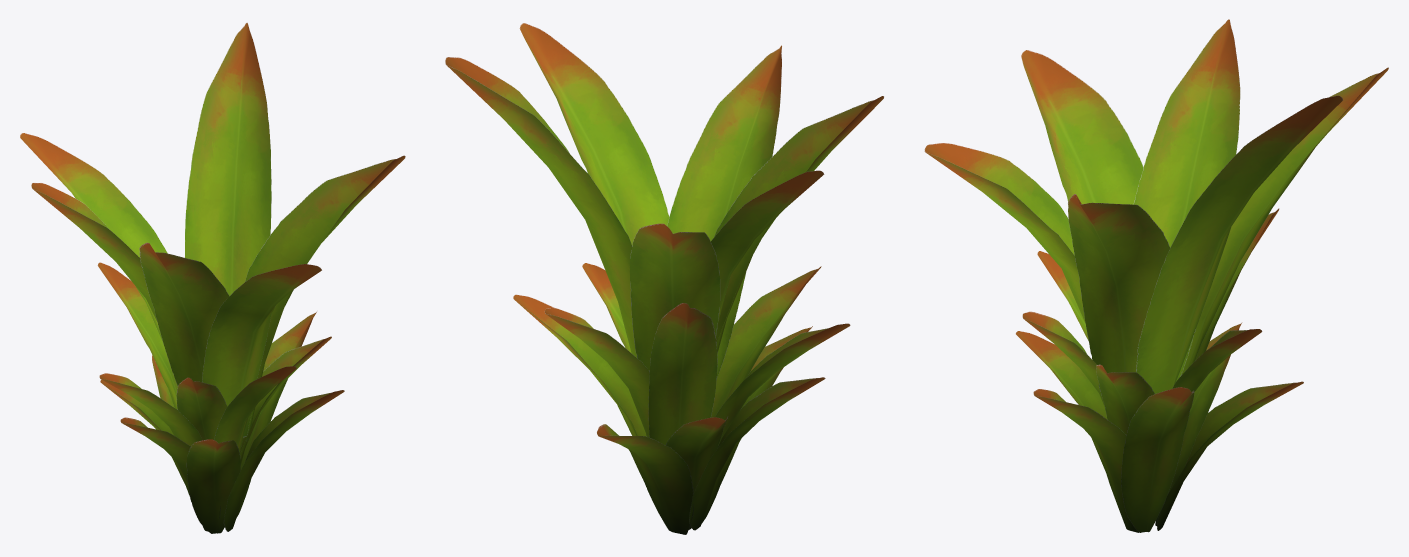
Rendered from Plant_1_Big.glb.
3 views of the same model, side by side, from view 1: azimuth 30°, elevation 25°; view 2: azimuth 150°, elevation 25°; view 3: azimuth 270°, elevation 25° (orthographic). The views are drawn at different scales.
Visible parts, largest first — view 1: Plant_1_Big; view 2: Plant_1_Big; view 3: Plant_1_Big.
Part boxes in pixels (box(x1,y1,x2,y2)): Plant_1_Big: box(20, 22, 405, 533); Plant_1_Big: box(445, 23, 883, 534); Plant_1_Big: box(924, 19, 1388, 532).
Size of the model in its own units: 1.81 by 2.35 by 1.95.
Materials: 1 (1 with a texture image).
